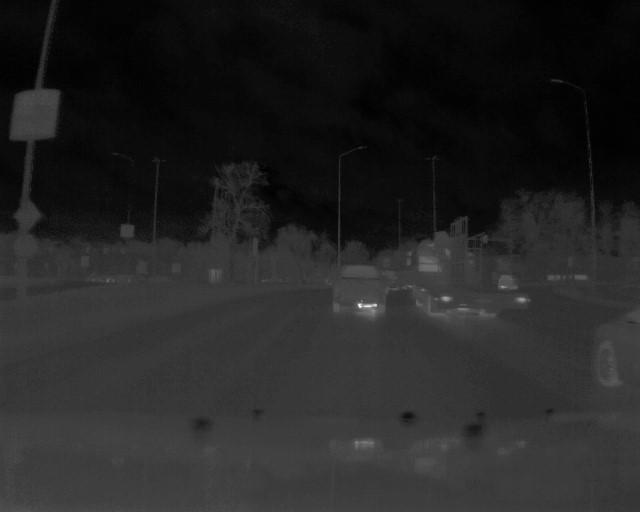car: (415, 237, 500, 324), (332, 262, 389, 317)
